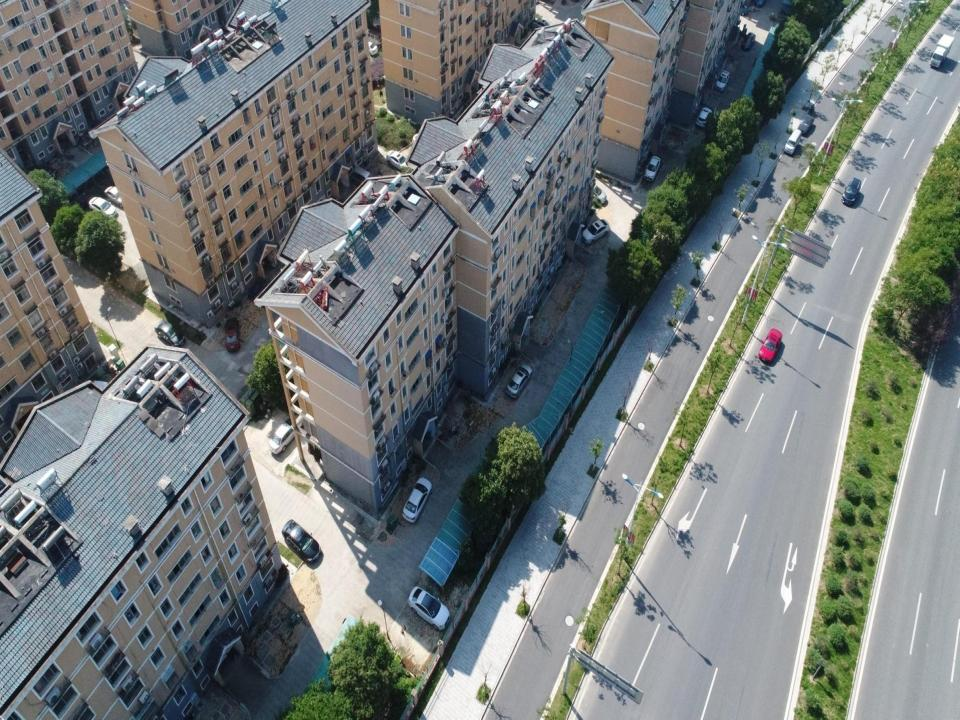car: (407, 583, 451, 634), (281, 519, 322, 568), (402, 476, 433, 524), (266, 416, 304, 454), (502, 364, 534, 399), (758, 324, 782, 365), (156, 320, 186, 349), (582, 219, 611, 246), (224, 314, 243, 354), (87, 196, 118, 218), (782, 128, 802, 158), (841, 176, 861, 206), (644, 154, 662, 186), (102, 182, 124, 206), (247, 277, 269, 301), (796, 111, 816, 133), (386, 150, 407, 170), (351, 166, 371, 186), (696, 106, 712, 130), (714, 71, 730, 93), (740, 30, 756, 51), (592, 184, 607, 204), (368, 41, 378, 56), (751, 0, 766, 9), (368, 55, 380, 57)
truck: (929, 30, 955, 69)
